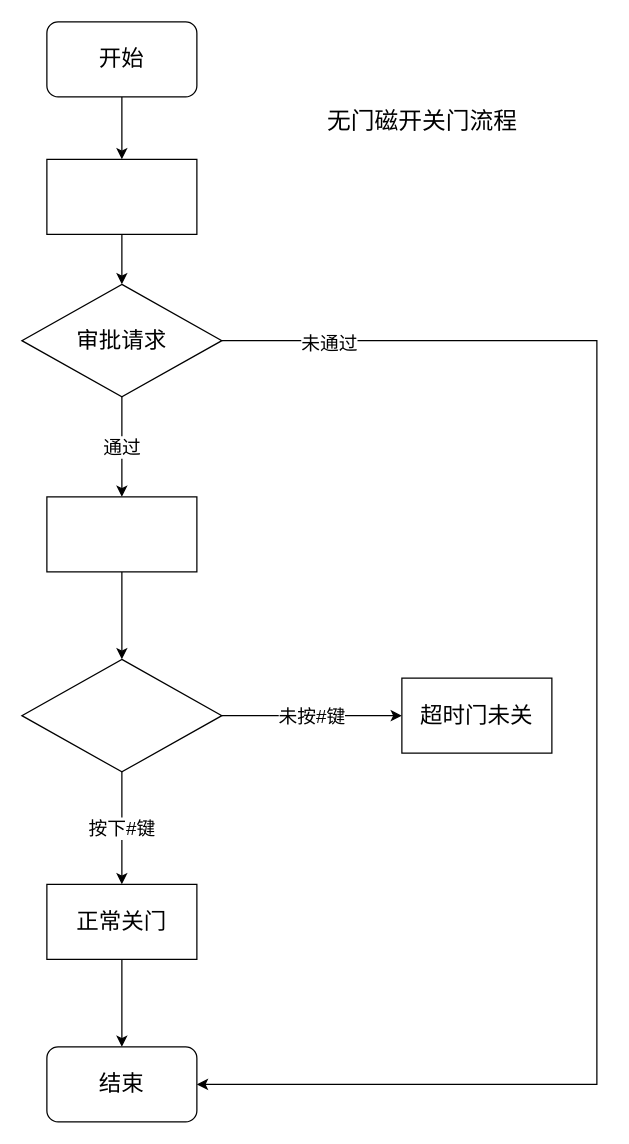
Image size: 629x1144. Some labels were removed from this diagram. The shapes that lost their labels are listed below. From the top down, each one's centre as x and y in pixels, then its label:
At pixel 121 196: "申请开门".
At pixel 121 534: "正常开门".
At pixel 121 715: "面板按键识别".
